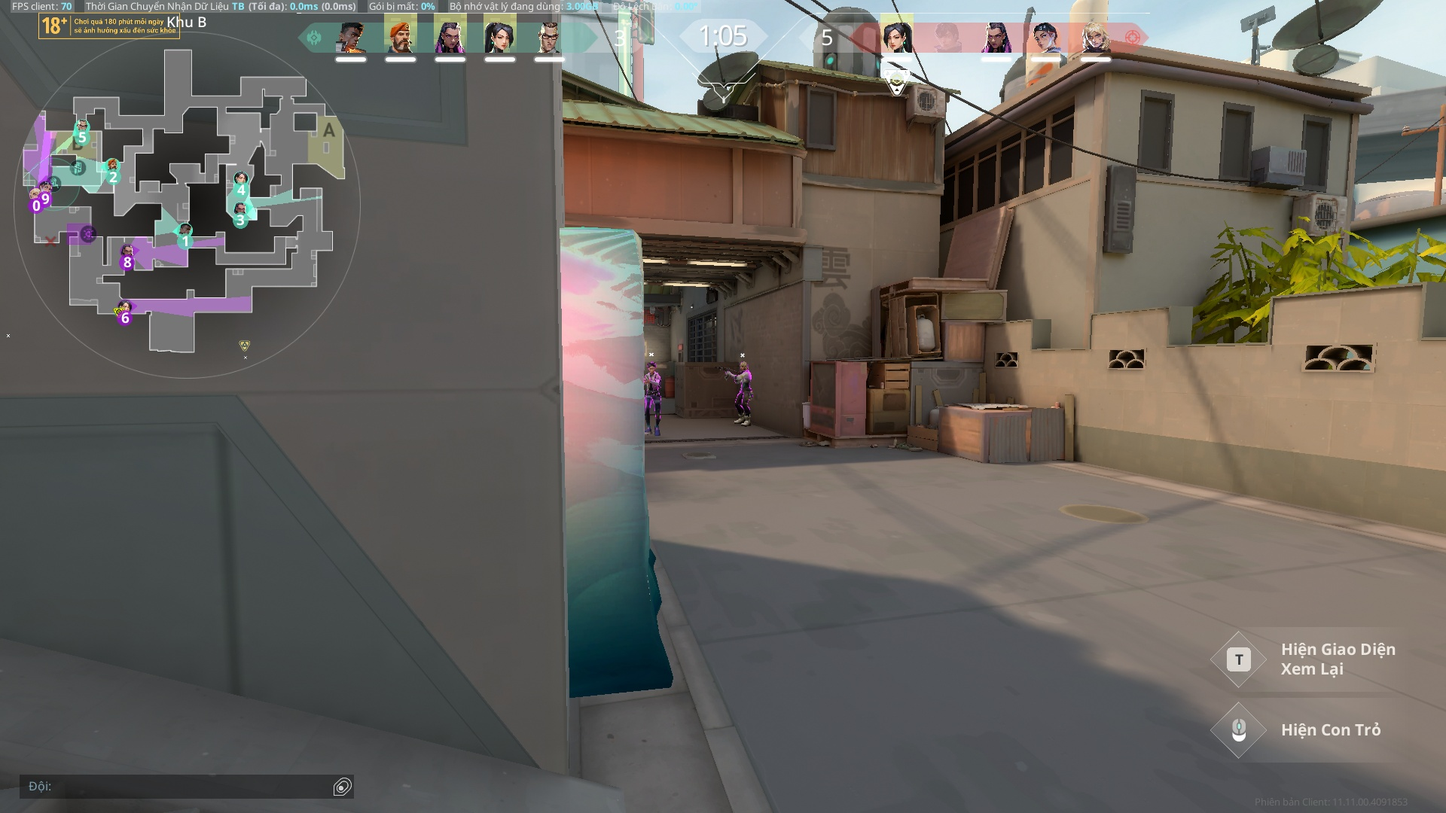body: (645, 373, 660, 393), (738, 370, 752, 390)
head: (740, 361, 750, 370), (647, 361, 655, 372)
